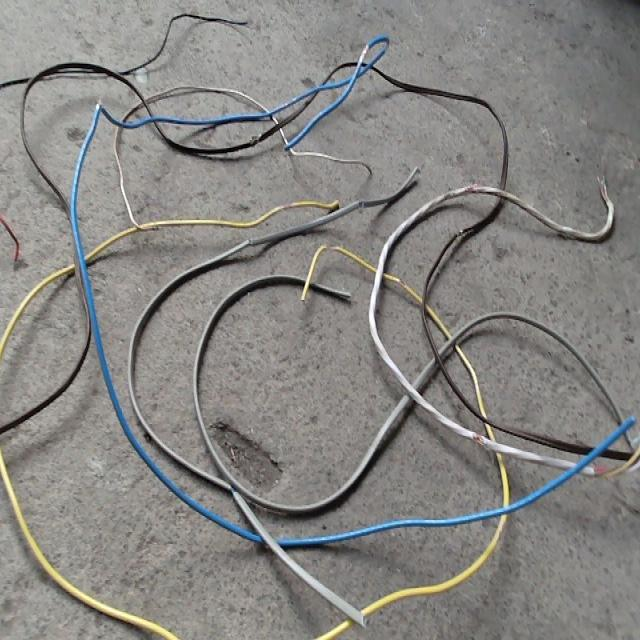-: (358, 43, 368, 64), (471, 432, 486, 445), (226, 484, 236, 495), (282, 200, 293, 208), (397, 276, 405, 285)
